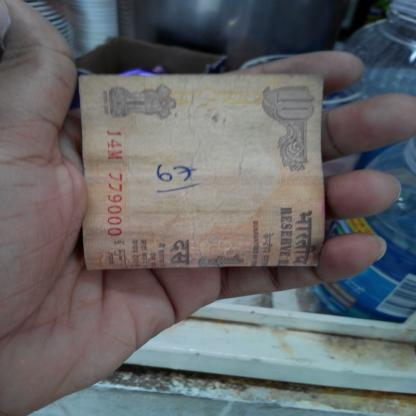Old10Front: (77, 73, 328, 271)
